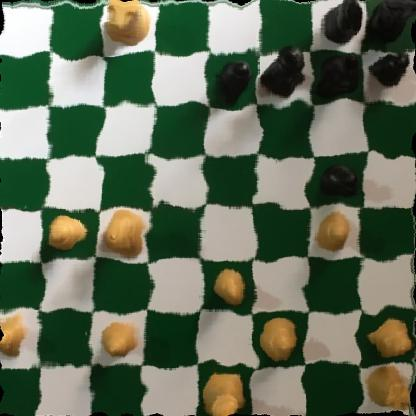black-bishop: (310, 47, 359, 100)
black-king: (257, 41, 307, 101)
black-knight: (322, 0, 365, 47)
black-pawn: (369, 46, 414, 89), (216, 58, 254, 102), (318, 163, 361, 201)
black-rook: (359, 0, 416, 46)
white-king: (199, 367, 251, 416)
white-pawn: (257, 319, 305, 366), (365, 319, 412, 360), (99, 315, 142, 358), (44, 214, 93, 251), (206, 266, 248, 308), (313, 210, 352, 251), (0, 305, 30, 354)
white-queen: (101, 210, 149, 260)
white-rook: (360, 362, 416, 416), (102, 0, 150, 51)
